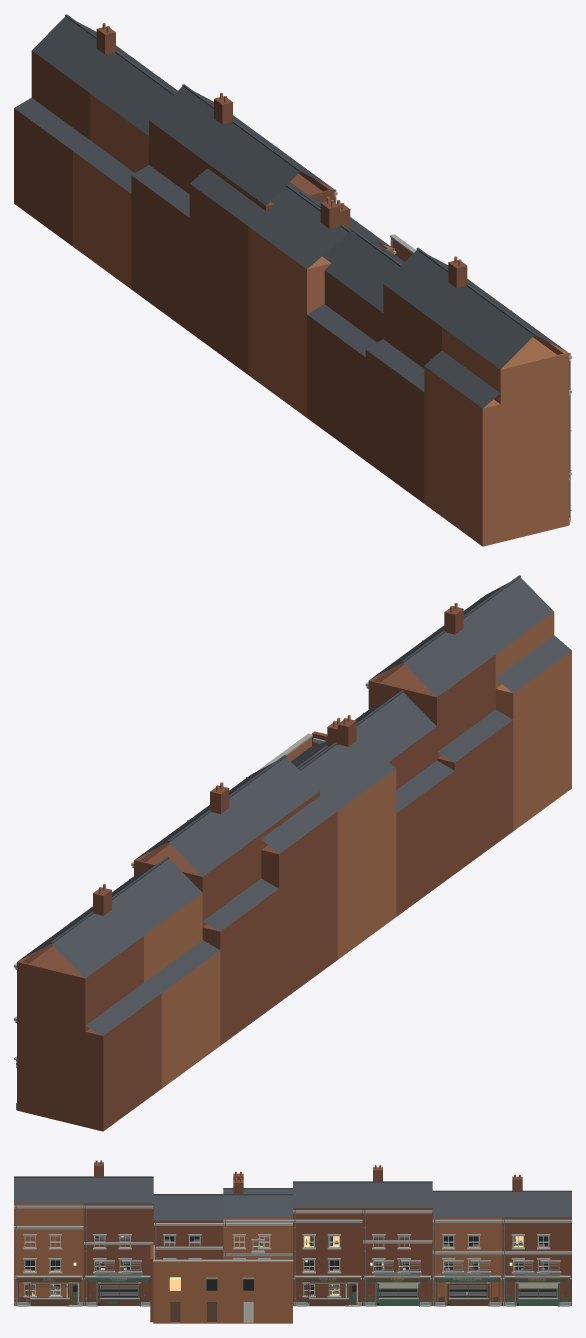
Rendered from exterior-frontages.glb.
The picture shows the model from 3 angles, top to bottom: view 1: azimuth 30°, elevation 25°; view 2: azimuth 150°, elevation 25°; view 3: azimuth 270°, elevation 25°; orthographic projection. The views are drawn at different scales.
Parts seen in each view (by area): view 1: district_workshop_frontage, district_terrace_frontage; view 2: district_workshop_frontage, district_terrace_frontage; view 3: district_terrace_frontage, district_workshop_frontage, district_court_walls, district_passage_frontage, district_west_row_a_trade, district_west_row_b_trade.
Part boxes in pixels (box(x1,y1,x2,y2)): district_workshop_frontage: box(14, 97, 571, 546); district_terrace_frontage: box(31, 14, 571, 540); district_workshop_frontage: box(14, 635, 571, 1131); district_terrace_frontage: box(14, 575, 554, 1126); district_terrace_frontage: box(14, 1160, 571, 1306); district_workshop_frontage: box(14, 1171, 571, 1306); district_court_walls: box(150, 1243, 293, 1323); district_passage_frontage: box(51, 1236, 418, 1294); district_west_row_a_trade: box(18, 1277, 567, 1281); district_west_row_b_trade: box(94, 1271, 561, 1281).
Size of the model in its own units: 12.1 by 16.91 by 64.
Materials: 22 (4 with a texture image).
